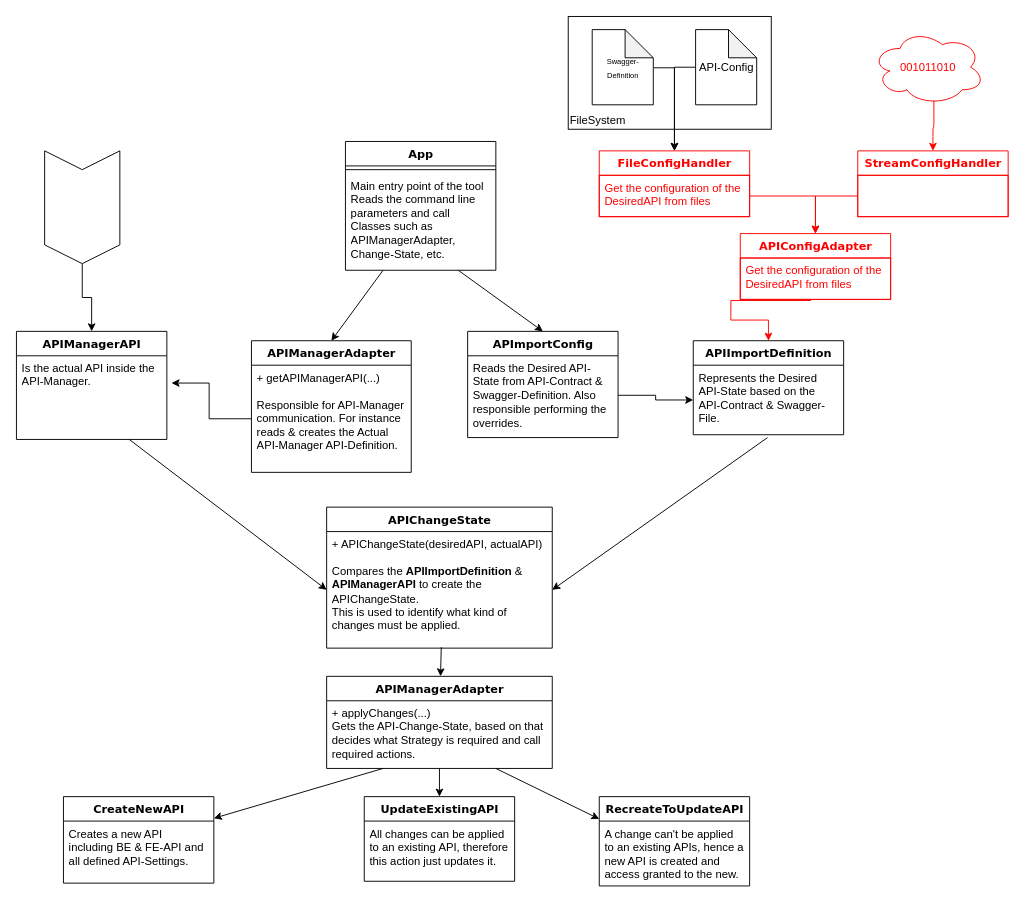
The diagram is 1025 pixels wide and 902 high, and some of its shapes have lost their labels. Each missing label, with the centre of its shape:
"API-Manager REST-API" belongs at (x=82, y=207).
"Get the configuration of the DesiredAPI from stream" belongs at (x=932, y=195).
